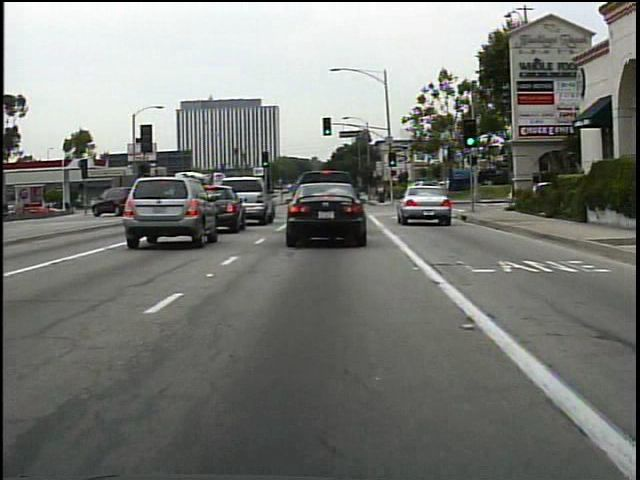person: (375, 181, 390, 206)
